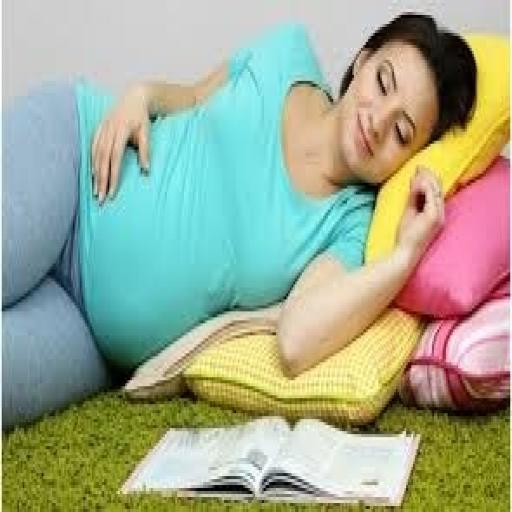sleeping: (3, 9, 479, 428)
